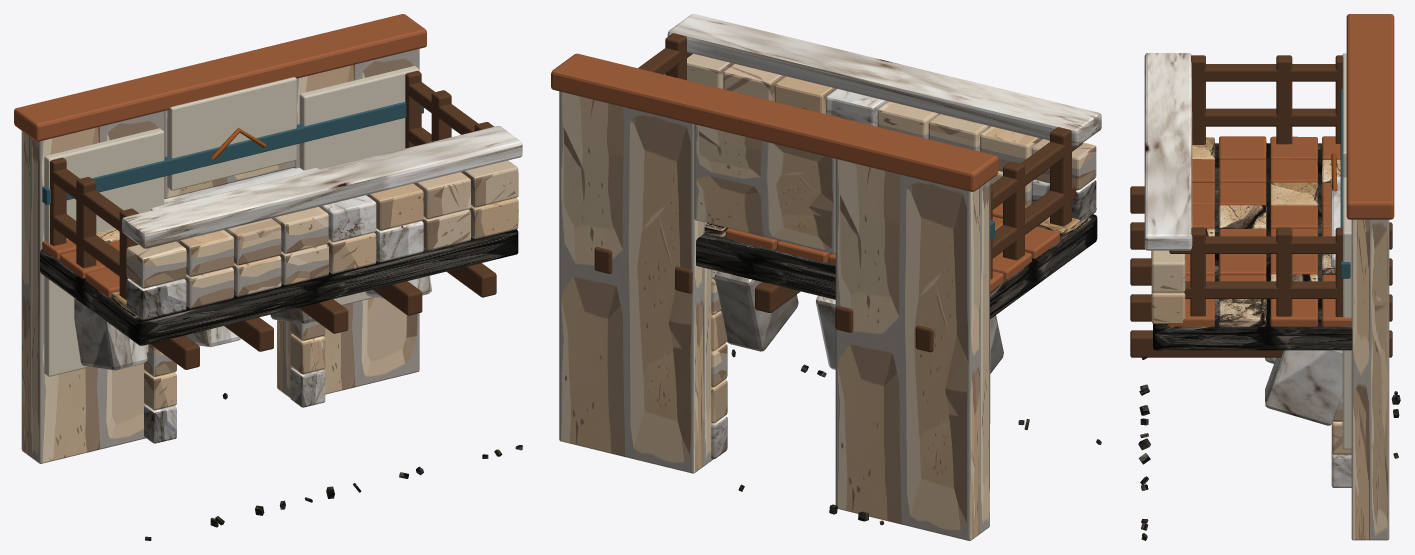
The model's file is balcony_combat_LOD0.glb.
3 views of the same model, side by side, from view 1: azimuth 30°, elevation 25°; view 2: azimuth 150°, elevation 25°; view 3: azimuth 270°, elevation 25° (orthographic). The views are drawn at different scales.
Visible parts, largest first — view 1: BalconyBackHeartLeft, BalconyTerracottaCoping, BalconyFrontCoping, BalconyStoneEdgeBeam, BalconyBackHeartRight, BalconyBackPlasterLintel, BalconyBackPlaster, BalconyBackPlaster.001, BalconyBlueBand, BalconyStoneCorbel, BalconyFrontGuard.008, BalconyFrontGuard (+36 smaller); view 2: BalconyBackHeartLeft, BalconyBackHeartRight, BalconyTerracottaCoping, BalconyFrontCoping, BalconyBackHeartLintel, BalconyStoneEdgeBeam, BalconyStoneCorbel.002, BalconySideRail.001, BalconySideRail, BalconyFrontGuard.009, BalconyRailPost, BalconyRailPost.001 (+13 smaller); view 3: BalconyBackHeartRight, BalconyTerracottaCoping, BalconyFrontCoping, BalconyStoneEdgeBeam, BalconyStoneCorbel.003, BalconySideRail.002, BalconySideRail.003, BalconySideRail, BalconySideRail.001, BalconyBackPlaster.001, BalconyUnderBeam.004, BalconyFrontGuard.015 (+37 smaller).
Part boxes in pixels (<box>): BalconyBackHeartLeft: <box>21,111,164,463</box>; BalconyTerracottaCoping: <box>14,14,426,141</box>; BalconyFrontCoping: <box>122,126,522,248</box>; BalconyStoneEdgeBeam: <box>40,229,518,345</box>; BalconyBackHeartRight: <box>277,48,419,397</box>; BalconyBackPlasterLintel: <box>167,77,296,190</box>; BalconyBackPlaster: <box>44,128,164,376</box>; BalconyBackPlaster.001: <box>299,66,419,305</box>; BalconyBlueBand: <box>42,102,423,204</box>; BalconyStoneCorbel: <box>74,298,147,370</box>; BalconyFrontGuard.008: <box>126,241,186,288</box>; BalconyFrontGuard: <box>126,278,186,319</box>; BalconyBackHeartLeft: <box>835,159,989,540</box>; BalconyBackHeartRight: <box>559,91,713,473</box>; BalconyTerracottaCoping: <box>551,53,998,191</box>; BalconyFrontCoping: <box>667,14,1101,146</box>; BalconyBackHeartLintel: <box>694,124,835,253</box>; BalconyStoneEdgeBeam: <box>696,214,1097,318</box>; BalconyStoneCorbel.002: <box>713,271,798,351</box>; BalconySideRail.001: <box>990,142,1082,210</box>; BalconySideRail: <box>990,185,1076,259</box>; BalconyFrontGuard.009: <box>980,126,1041,171</box>; BalconyRailPost: <box>1050,127,1071,226</box>; BalconyRailPost.001: <box>1003,161,1024,260</box>; BalconyBackHeartRight: <box>1351,219,1389,540</box>; BalconyTerracottaCoping: <box>1346,14,1394,219</box>; BalconyFrontCoping: <box>1144,53,1192,250</box>; BalconyStoneEdgeBeam: <box>1153,143,1352,350</box>; BalconyStoneCorbel.003: <box>1265,350,1342,425</box>; BalconySideRail.002: <box>1183,281,1342,298</box>; BalconySideRail.003: <box>1169,236,1342,253</box>; BalconySideRail: <box>1192,108,1340,126</box>; BalconySideRail.001: <box>1192,64,1342,81</box>; BalconyBackPlaster.001: <box>1342,177,1351,449</box>; BalconyUnderBeam.004: <box>1130,330,1392,357</box>; BalconyFrontGuard.015: <box>1151,250,1185,292</box>.
Size of the model in its own units: 4.54 by 3.84 by 2.73.
9 materials, 4 textured.
